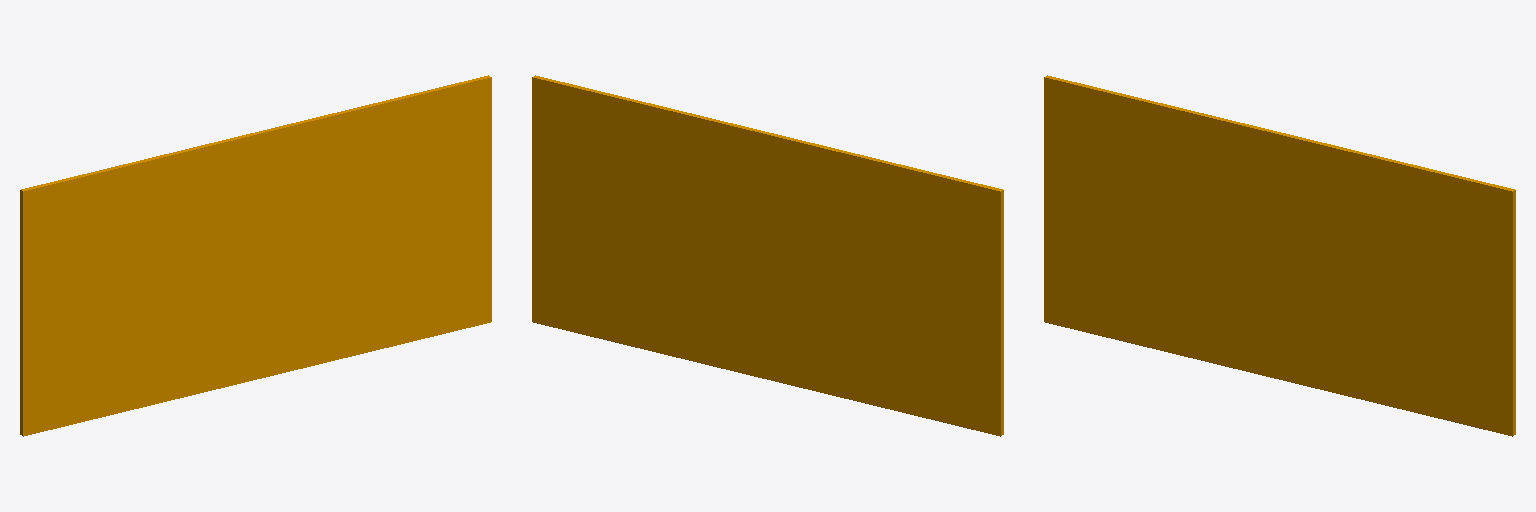
The robot description file, URDF, robot "left_wall":
<?xml version='1.0' encoding='UTF-8'?>
<robot name="left_wall">
  <link name="base_link">
    <inertial>
      <origin xyz="0.0 0.0 0.0" rpy="0.0 -0.0 0.0"/>
      <mass value="1.0"/>
      <inertia ixx="1.0" ixy="0.0" ixz="0.0" iyy="1.0" iyz="0.0" izz="1.0"/>
    </inertial>
    <visual name="base_link_visual">
      <geometry>
        <box size="20 0.2 10"/>
      </geometry>
      <origin xyz="0 0 0" rpy="0 0 0"/>
    </visual>
    <collision name="base_link_collision">
      <geometry>
        <box size="20 0.2 10"/>
      </geometry>
      <origin xyz="0 0 0" rpy="0 0 0"/>
    </collision>
  </link>
</robot>

--- Facts derived from the render (not from the file) ---
The picture shows the robot from 3 angles, left to right: view 1: azimuth 30°, elevation 25°; view 2: azimuth 150°, elevation 25°; view 3: azimuth 330°, elevation 25°; orthographic projection.
Robot: left_wall — 1 links, 0 joints (none); root link base_link; default pose: every joint at zero.
Links seen in each view (by area): view 1: base_link; view 2: base_link; view 3: base_link.
Link boxes in pixels (x1=…): base_link: x1=20, y1=75, x2=491, y2=436; base_link: x1=532, y1=75, x2=1003, y2=436; base_link: x1=1044, y1=75, x2=1515, y2=436.
Bounding box of the posed robot: 20 × 0.2 × 10 m (x, y, z).
Geometry: primitives only (box / cylinder / sphere), no mesh files.